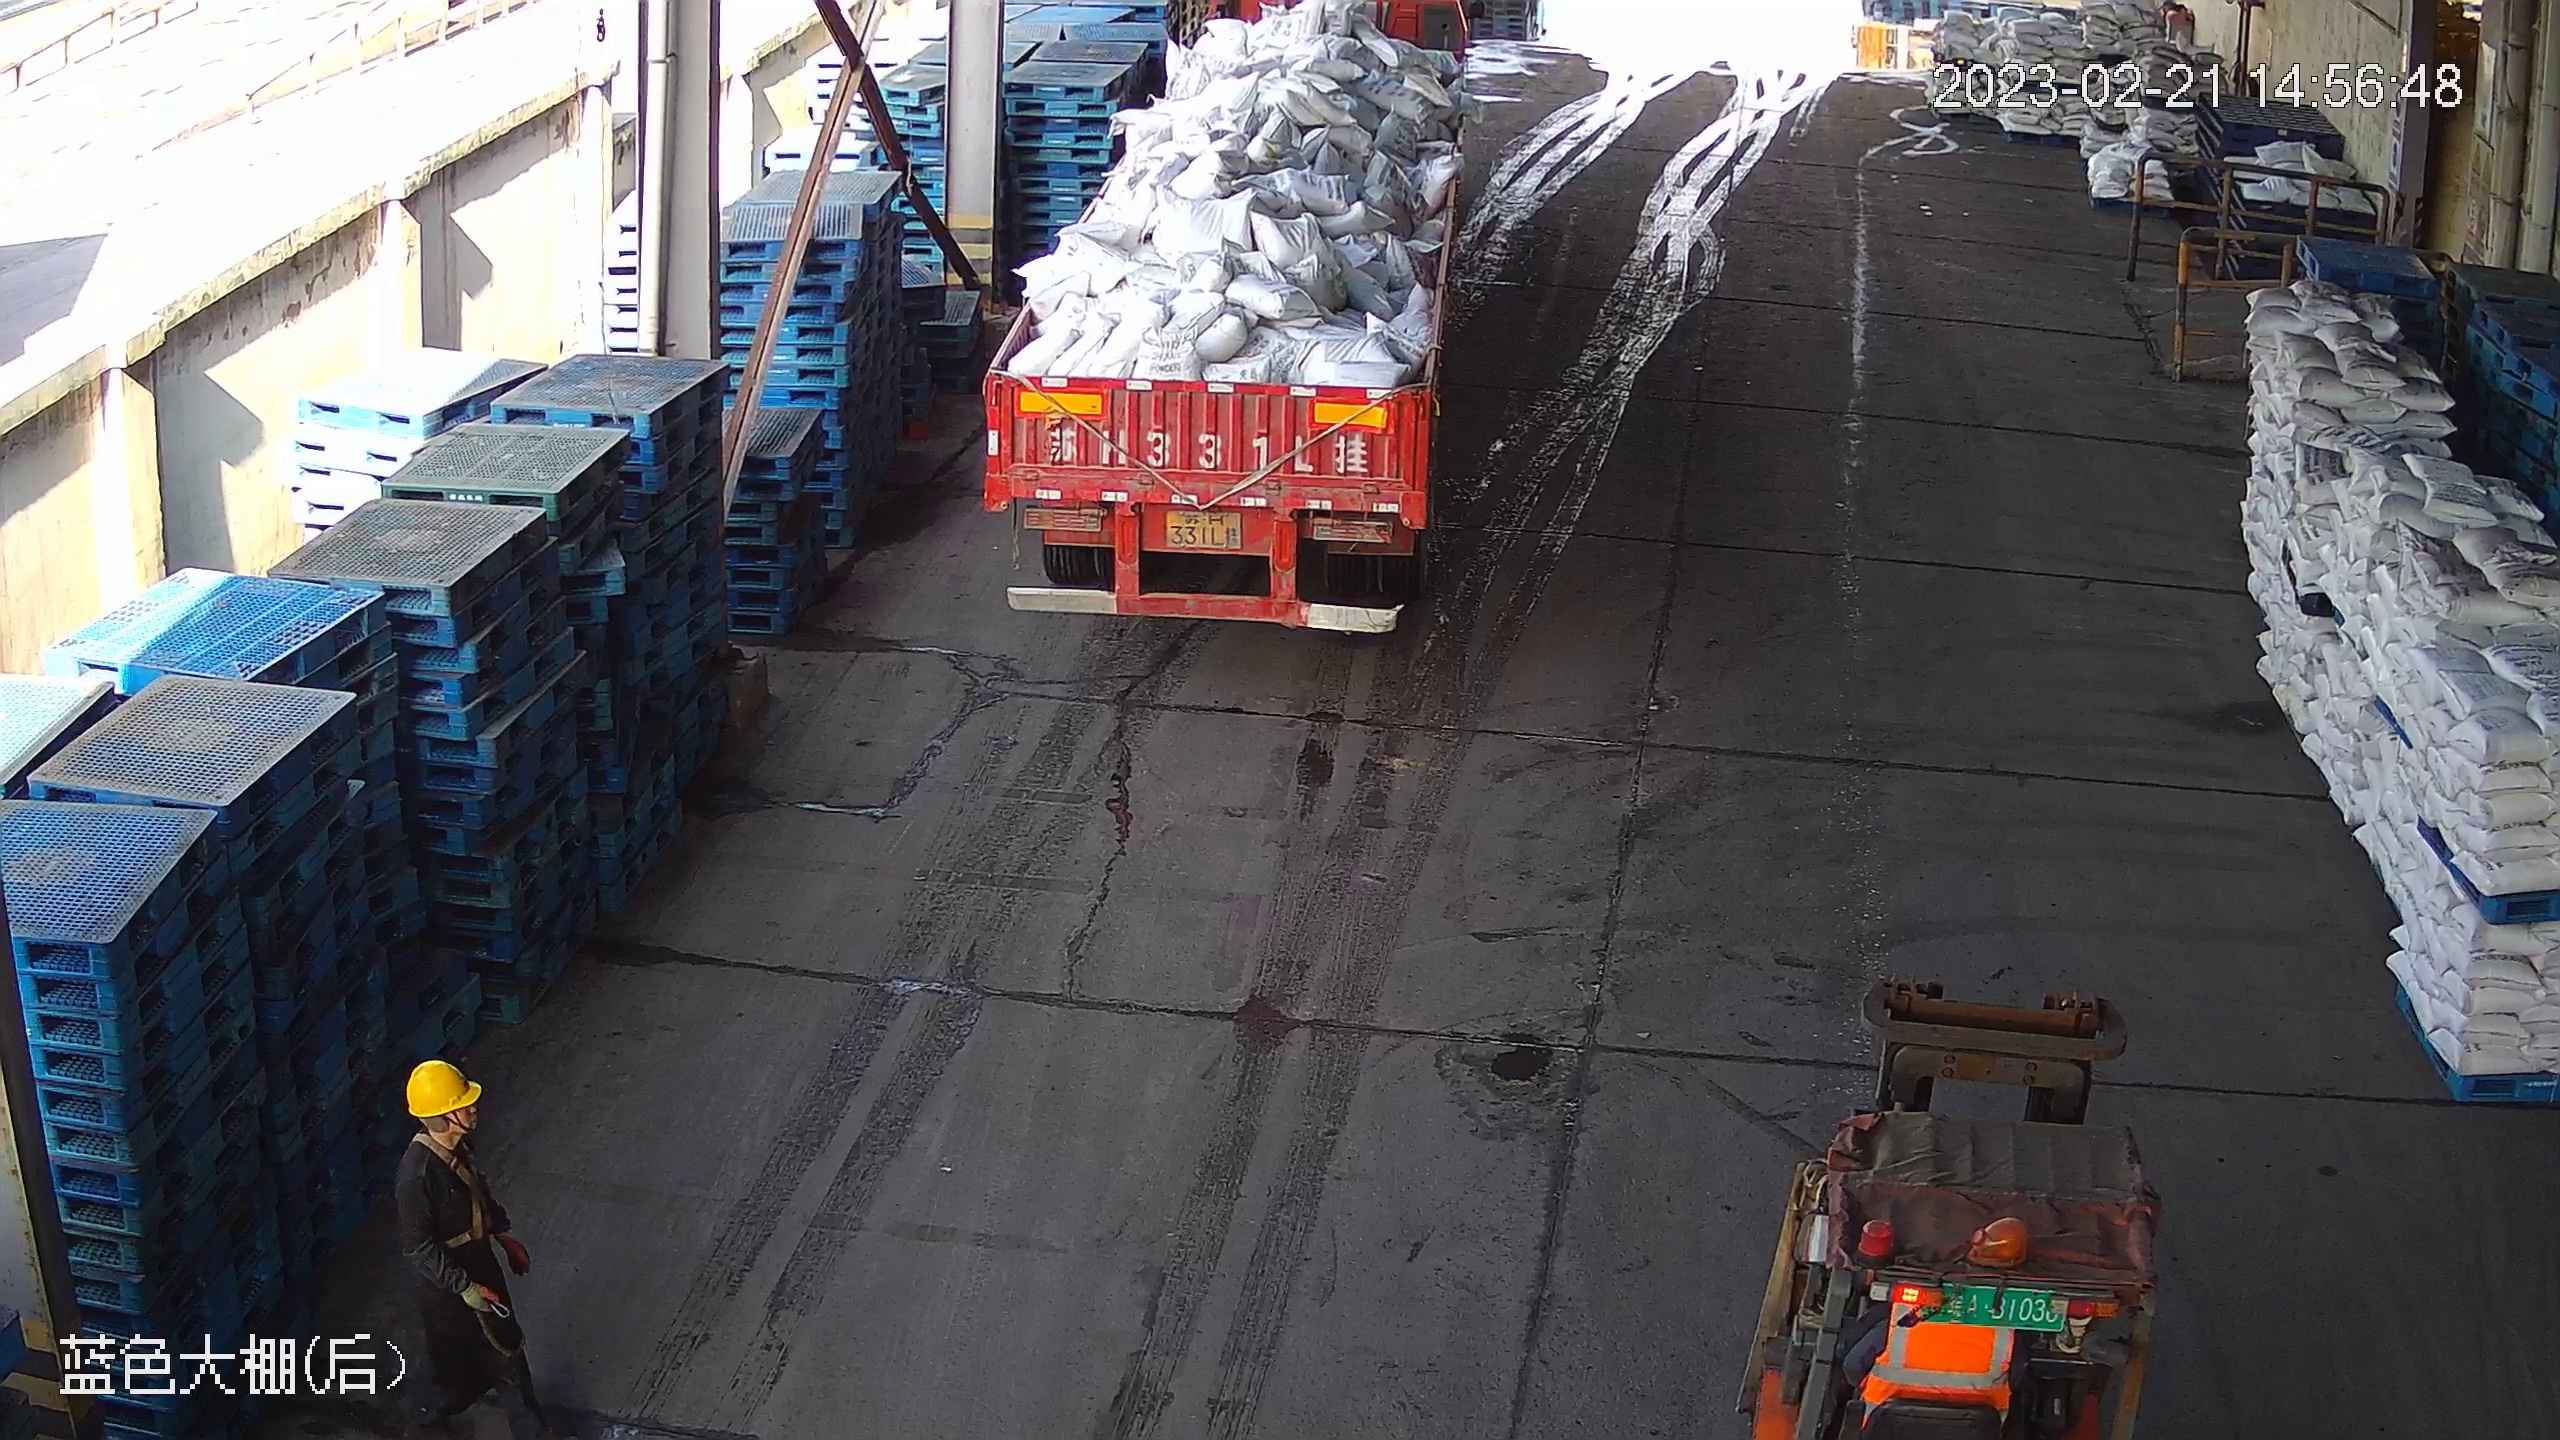head: (394, 1056, 491, 1191)
helmet: (404, 1059, 480, 1119)
people: (390, 1052, 542, 1440)
truck: (974, 1, 1480, 641)
